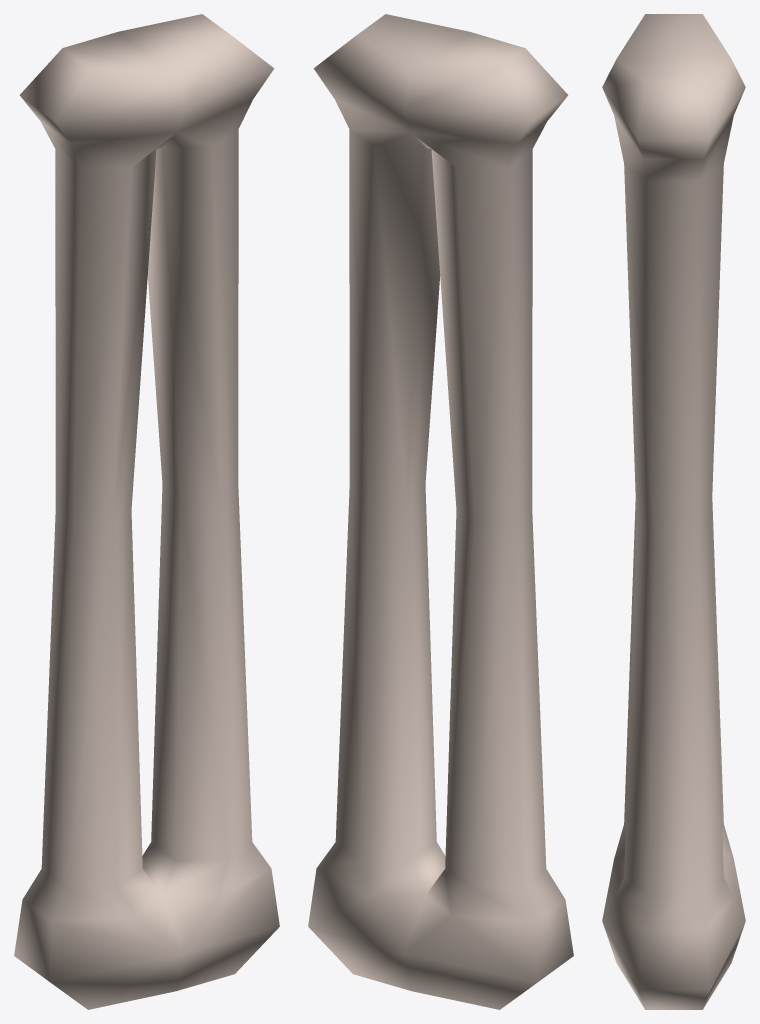
File: Dem Dry Bones.fbx
3 renders of one model, left to right at view 1: azimuth 30°, elevation 25°; view 2: azimuth 150°, elevation 25°; view 3: azimuth 270°, elevation 25°, orthographic.
Visible parts, largest first — view 1: Dem Dry Bones - Haskipend; view 2: Dem Dry Bones - Haskipend; view 3: Dem Dry Bones - Haskipend.
Part boxes in pixels (x1,y1,x2,y2): Dem Dry Bones - Haskipend: (14,14,279,1009); Dem Dry Bones - Haskipend: (308,14,573,1009); Dem Dry Bones - Haskipend: (602,14,745,1009).
Size of the model in its own units: 22.77 by 89.1 by 12.52.
